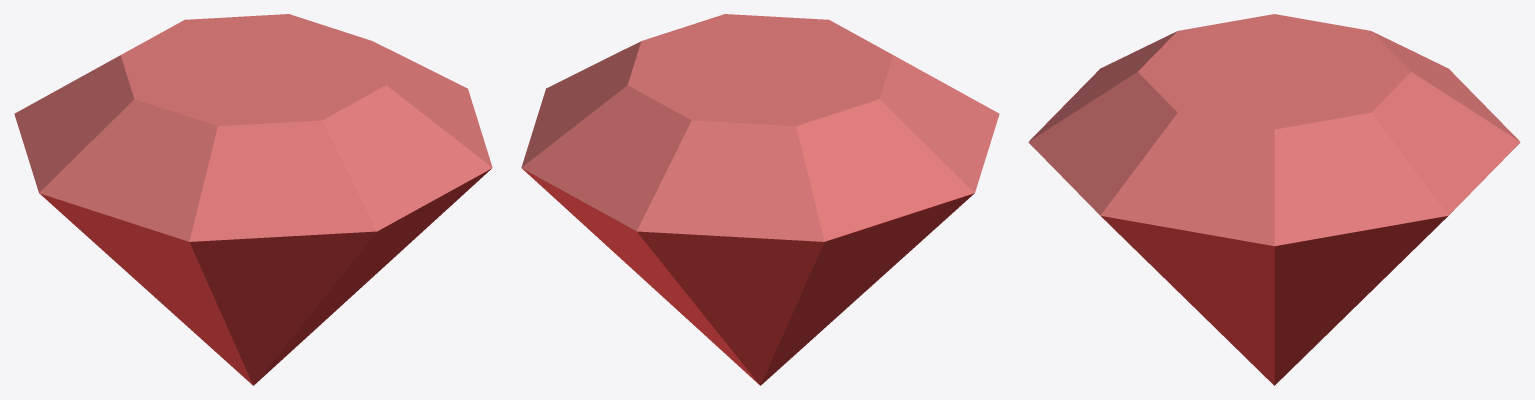
The model's file is Core.obj.
3 renders of one model, left to right at view 1: azimuth 30°, elevation 25°; view 2: azimuth 150°, elevation 25°; view 3: azimuth 270°, elevation 25°, orthographic.
Parts seen in each view (by area): view 1: 円錐; view 2: 円錐; view 3: 円錐.
Boxes of the visible parts, x1,y1,x2,y2 form: 円錐: (14, 14, 492, 385); 円錐: (521, 14, 999, 385); 円錐: (1028, 14, 1520, 385).
Bounding box in the file's own units: 2 × 1.41 × 2.
1 material, 1 textured.
